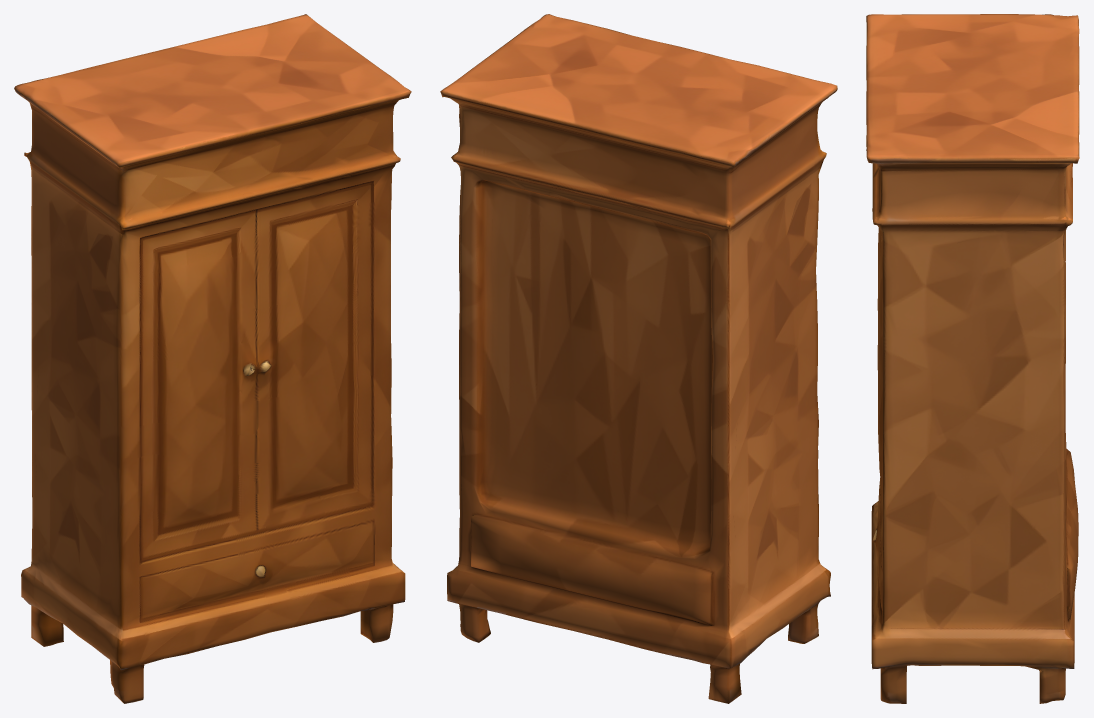
The model's file is Aparador.glb.
The picture shows the model from 3 angles, left to right: view 1: azimuth 30°, elevation 25°; view 2: azimuth 150°, elevation 25°; view 3: azimuth 270°, elevation 25°; orthographic projection.
Bounding box in the file's own units: 1.07 × 1.91 × 0.6688.
Materials: 1 (1 with a texture image).
